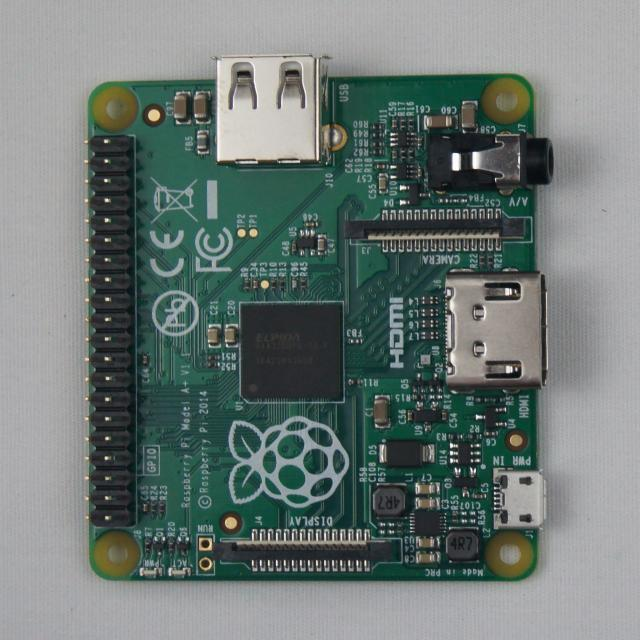Raspberry-Pi-1-A-: (86, 56, 555, 581)
